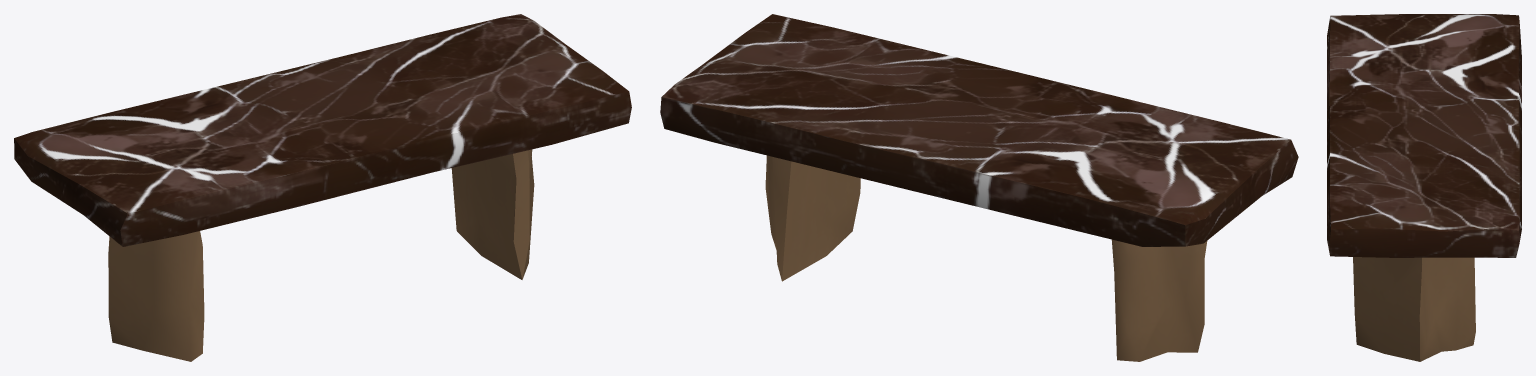
File: penthouse-dining-table.glb
3 views of the same model, side by side, from view 1: azimuth 30°, elevation 25°; view 2: azimuth 150°, elevation 25°; view 3: azimuth 270°, elevation 25° (orthographic). The views are drawn at different scales.
Parts seen in each view (by area): view 1: geometry_0; view 2: geometry_0; view 3: geometry_0.
Boxes of the visible parts, x1,y1,x2,y2 form: geometry_0: (14,14,631,361); geometry_0: (660,14,1298,361); geometry_0: (1327,14,1521,361).
Bounding box in the file's own units: 1 × 0.3409 × 0.3773.
1 material, 1 textured.
